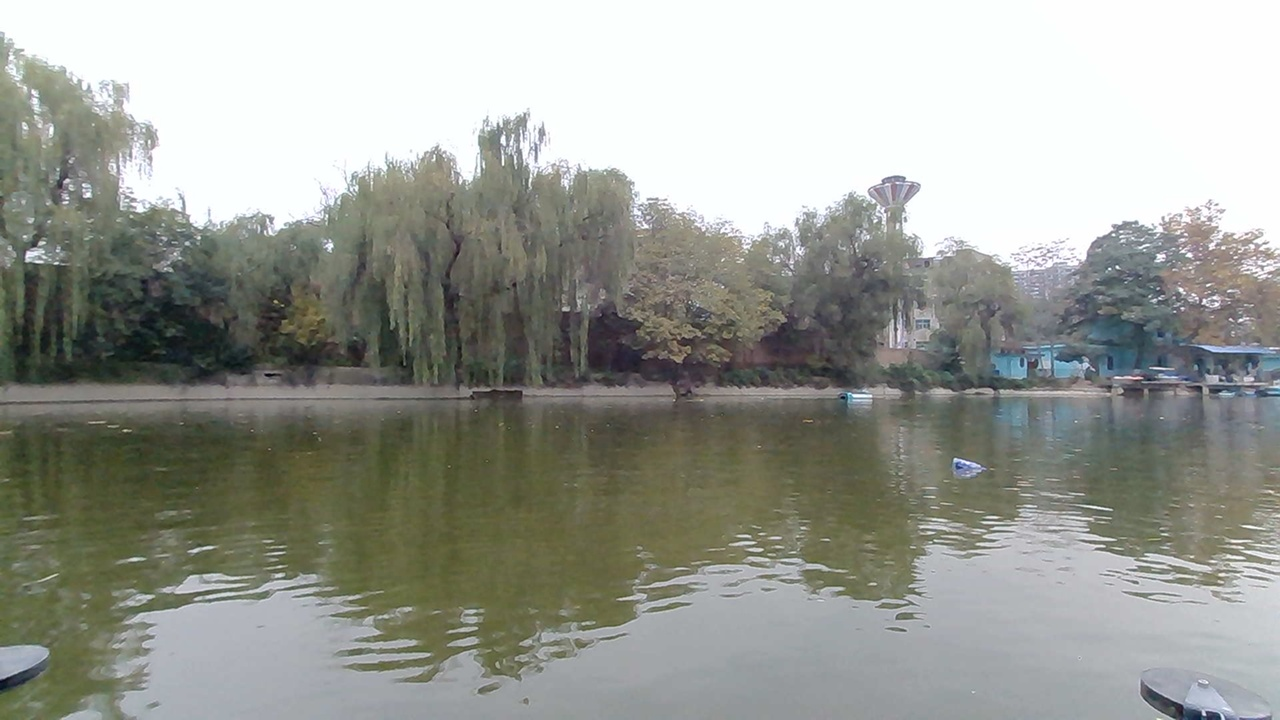bottle: (947, 452, 992, 486)
